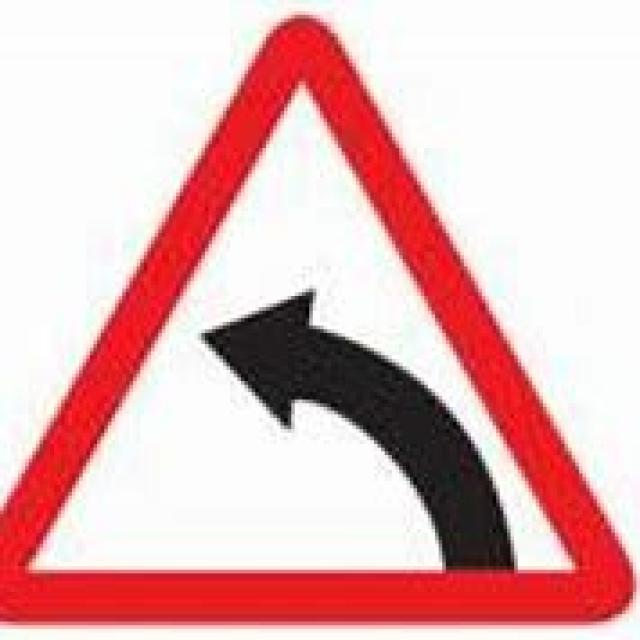left hand curve: (19, 19, 610, 618)
